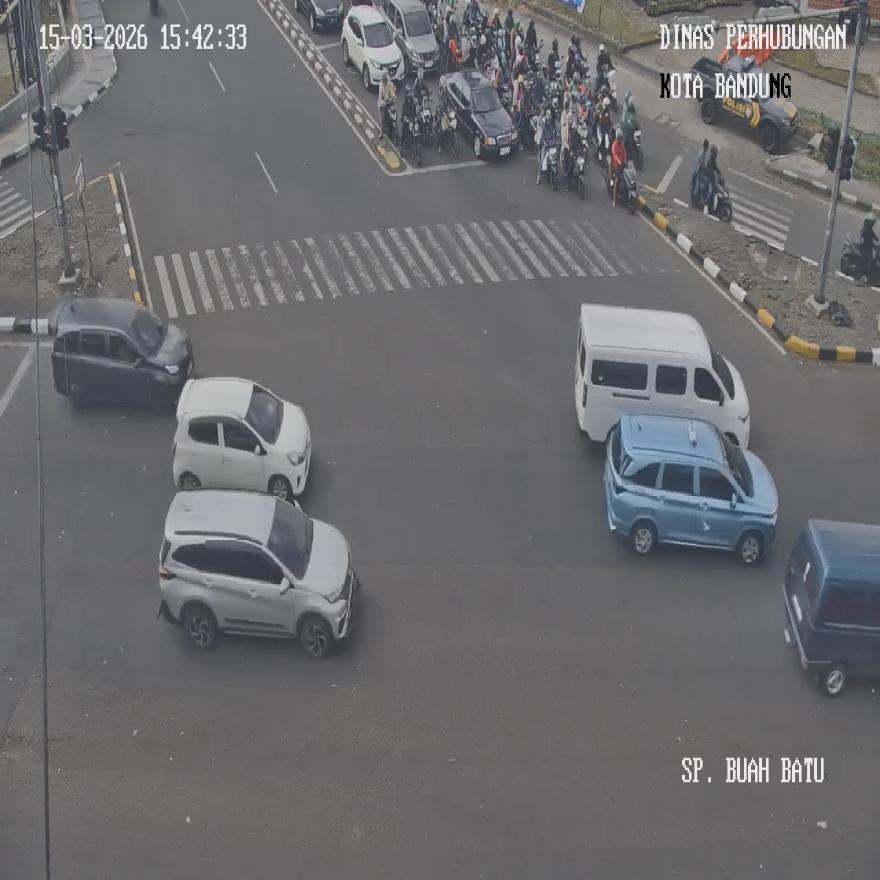Mobil: (156, 486, 360, 656), (603, 413, 779, 562), (574, 302, 750, 447), (781, 518, 880, 696), (172, 376, 311, 502), (49, 297, 193, 414), (441, 69, 519, 157), (342, 3, 404, 92), (378, 0, 442, 77)
Motor: (689, 165, 731, 222), (838, 232, 878, 284), (613, 160, 638, 213), (563, 141, 584, 199), (436, 105, 458, 158), (621, 121, 643, 170), (402, 116, 422, 166), (595, 57, 616, 104), (540, 140, 558, 190), (380, 96, 398, 146), (418, 98, 435, 145), (461, 26, 480, 66), (447, 37, 463, 72)
